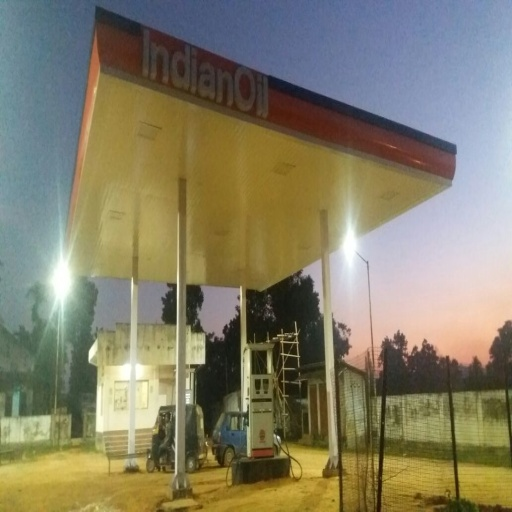roof: (68, 10, 454, 301)
